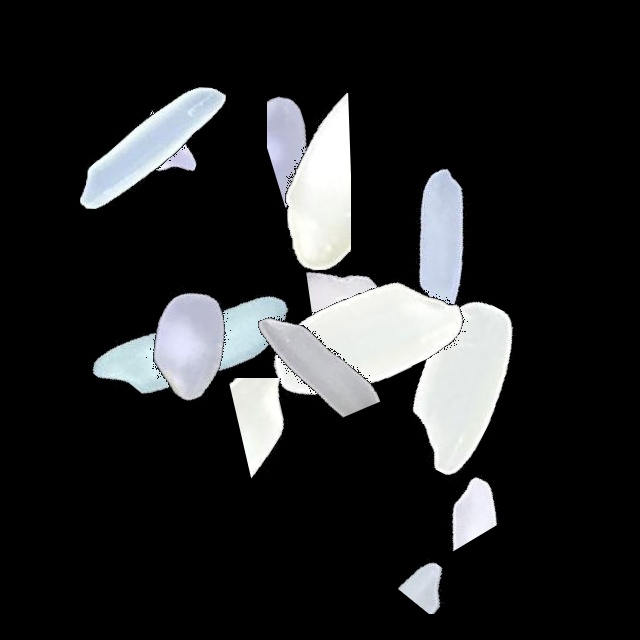Broken: (220, 213, 394, 463), (259, 227, 509, 375), (267, 13, 390, 263), (230, 51, 351, 301), (387, 364, 502, 614), (166, 378, 416, 479), (321, 515, 571, 614), (147, 3, 239, 253), (90, 60, 171, 310)
Full: (320, 115, 570, 365), (334, 258, 584, 508), (242, 211, 492, 461), (29, 22, 279, 272), (67, 217, 317, 467), (64, 221, 314, 471)
